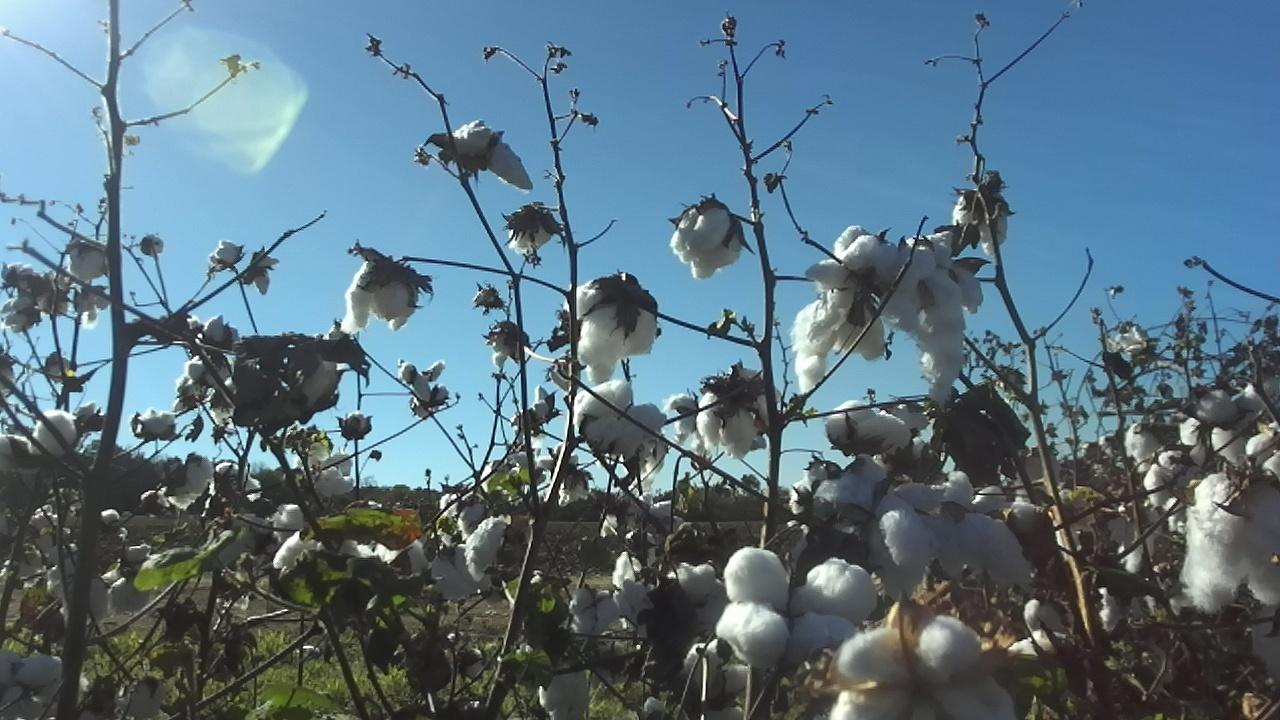cotton_ready: (828, 617, 1017, 720), (717, 545, 879, 663), (885, 230, 981, 406), (901, 474, 1034, 587), (814, 459, 922, 597), (1185, 470, 1280, 615), (808, 224, 900, 358), (565, 277, 658, 382), (615, 562, 725, 638), (695, 371, 778, 457), (573, 385, 665, 457), (448, 121, 535, 190), (345, 259, 419, 334), (668, 210, 745, 282), (0, 410, 85, 473), (684, 644, 754, 720), (1179, 389, 1248, 466), (0, 645, 67, 720), (829, 400, 906, 455), (539, 645, 594, 720), (272, 529, 356, 575), (464, 517, 519, 587), (1009, 600, 1072, 660), (952, 187, 1006, 251), (603, 490, 679, 533), (1144, 450, 1202, 506), (287, 353, 339, 410), (570, 585, 628, 636), (429, 545, 481, 599), (171, 454, 217, 509), (375, 535, 431, 578), (1126, 420, 1175, 464), (1245, 420, 1280, 475), (508, 218, 555, 255), (1254, 610, 1280, 675)
